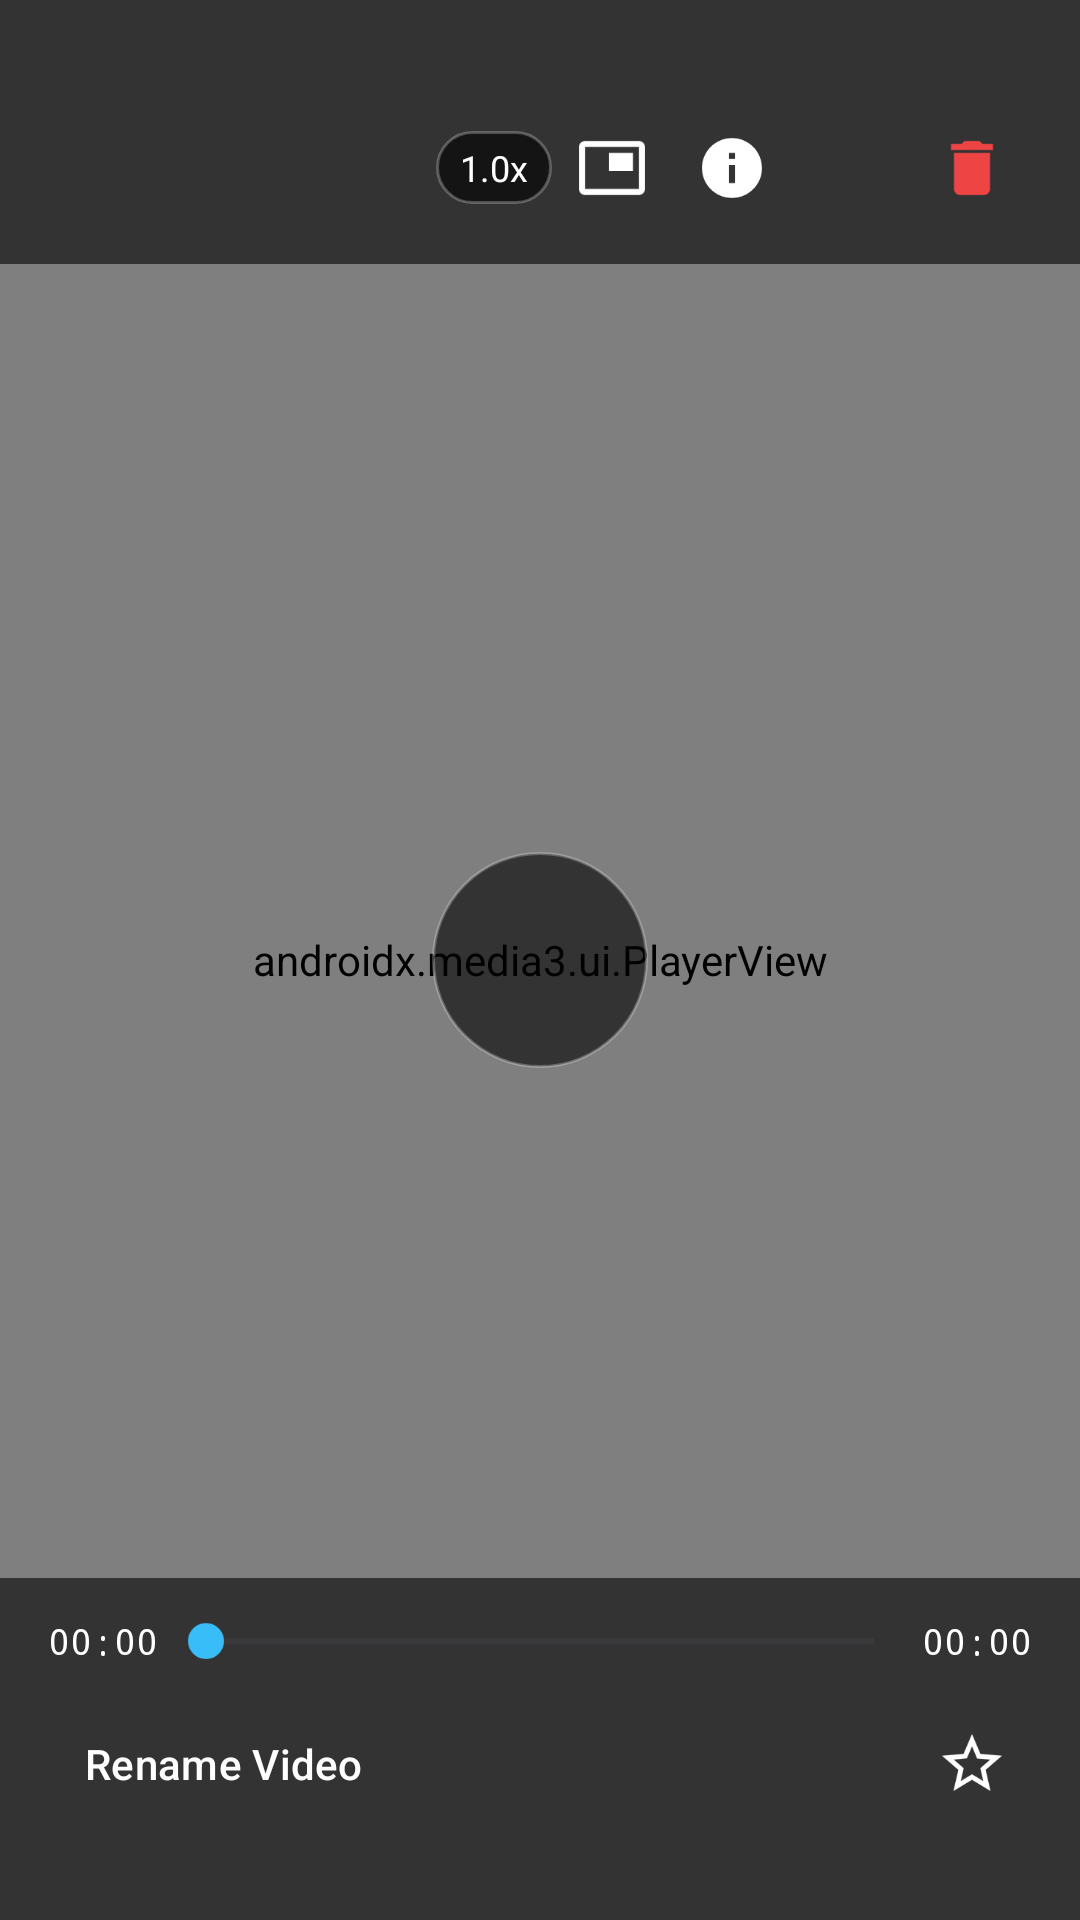

Named icons in this screenshot (1080w x 1920h) and their bounding boxes, rect(x1, y1, x2, y2):
Delete Video: rect(950, 141, 994, 195)
EXIF / Info: rect(702, 138, 762, 198)
Favorites: rect(942, 1734, 1002, 1791)
Picture-in-Picture: rect(579, 141, 645, 195)
